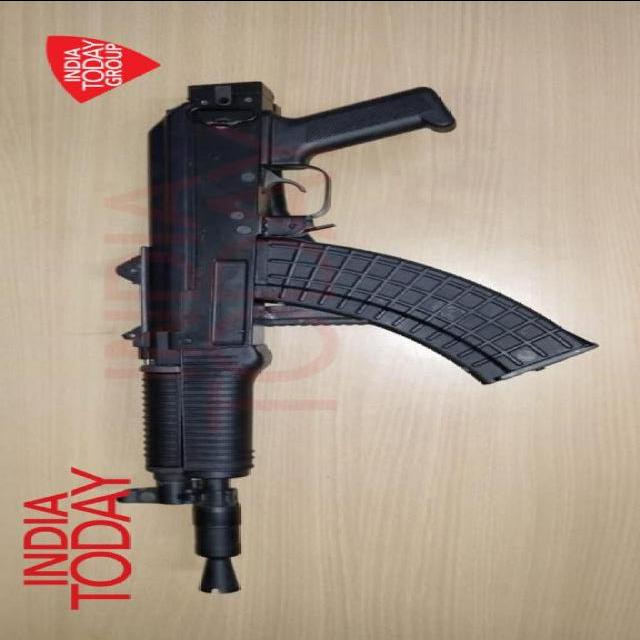smg: (105, 62, 605, 600)
